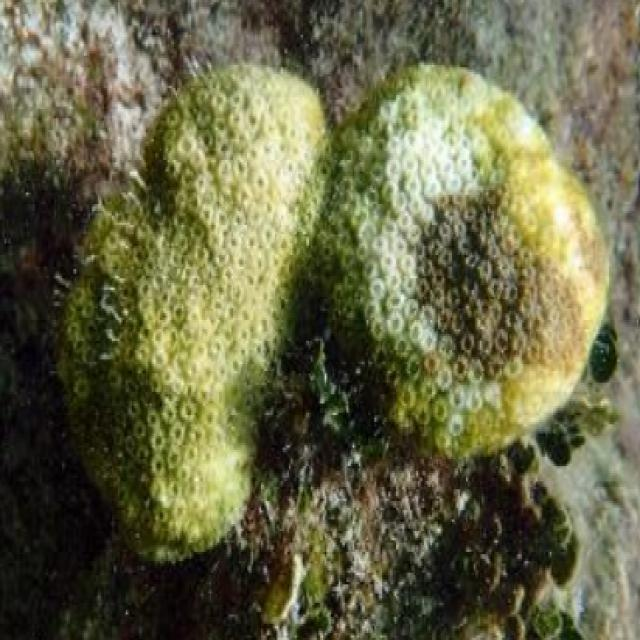Coral: (58, 62, 332, 563), (326, 62, 611, 460)
